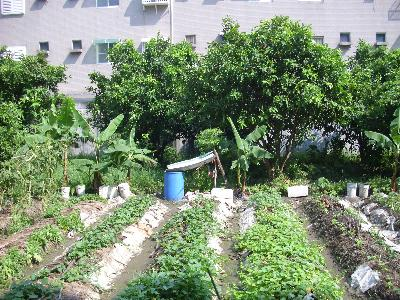bucket: (163, 171, 186, 205), (118, 182, 132, 200), (98, 182, 111, 199), (359, 182, 370, 199), (346, 182, 358, 197), (76, 183, 87, 198), (109, 183, 119, 199), (62, 186, 71, 199)
styrofoam: (285, 182, 310, 199)
